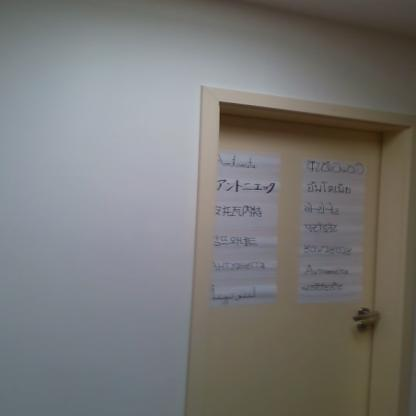door: (222, 119, 380, 416)
lever: (351, 310, 385, 322)
